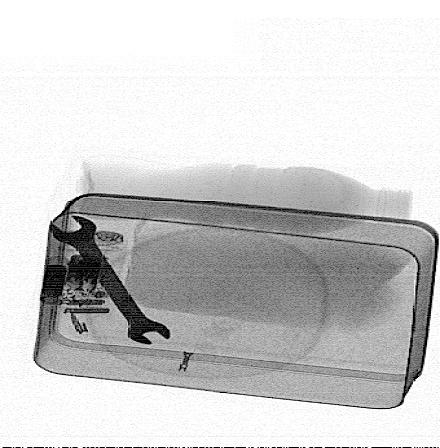Wrench: (47, 213, 172, 348)
